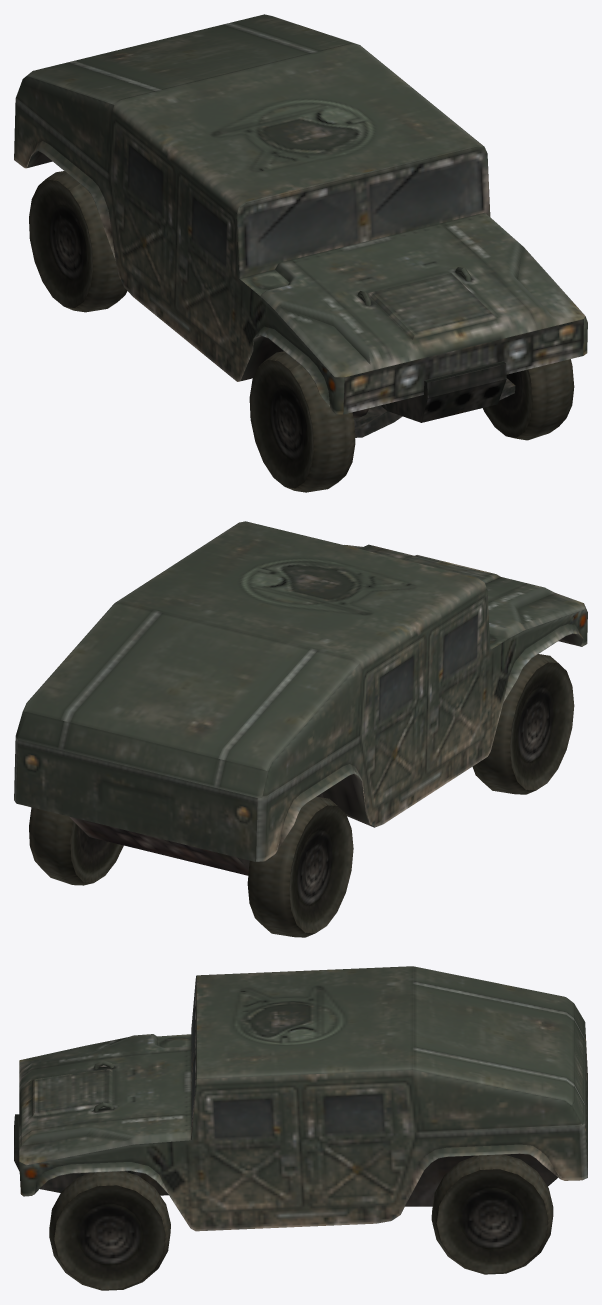
File: Humvee.FBX
The picture shows the model from 3 angles, top to bottom: view 1: azimuth 30°, elevation 25°; view 2: azimuth 150°, elevation 25°; view 3: azimuth 270°, elevation 25°; orthographic projection. The views are drawn at different scales.
Visible parts, largest first — view 1: Vehicles_Mesh; view 2: Vehicles_Mesh; view 3: Vehicles_Mesh.
Boxes of the visible parts, x1,y1,x2,y2 form: Vehicles_Mesh: [14, 14, 587, 492]; Vehicles_Mesh: [14, 521, 587, 937]; Vehicles_Mesh: [14, 966, 587, 1290].
Size of the model in its own units: 88.7 by 193 by 83.66.
